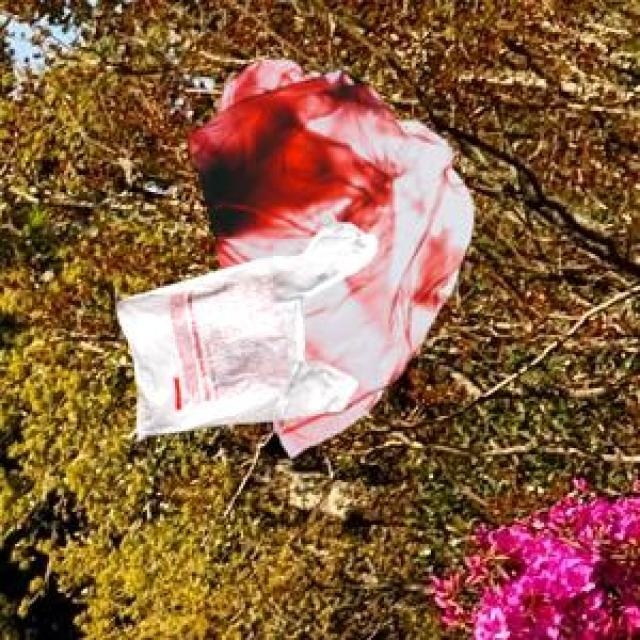litter: (184, 32, 481, 455), (113, 242, 370, 446)
